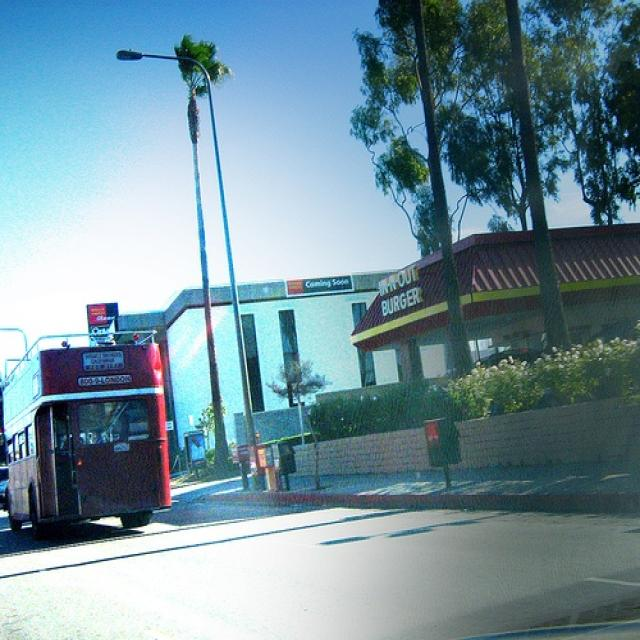bus: (2, 327, 172, 536)
